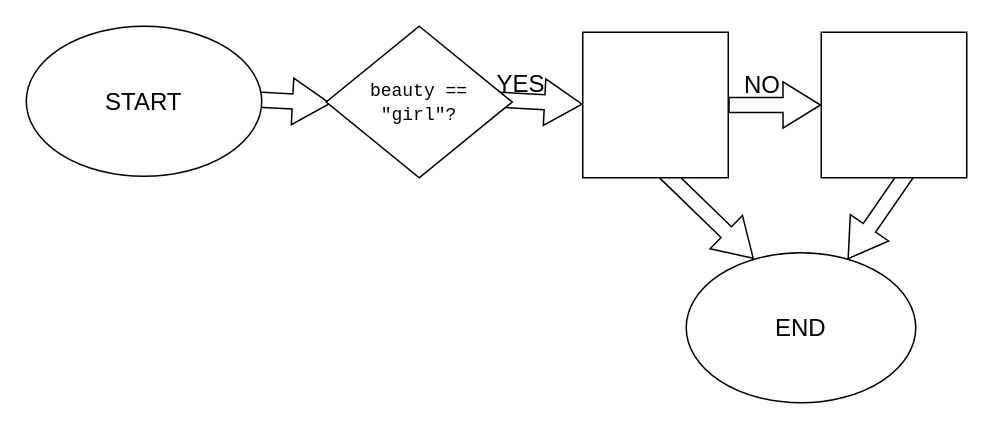
Image size: 993x429. Some labels were removed from this diagram. The shapes that lost their labels are listed below. From the top down, each one's centre as x and y in pixels, then its label:
point 654,104: Print "A beautiful girl"
point 893,104: Print "A beautiful boy"
